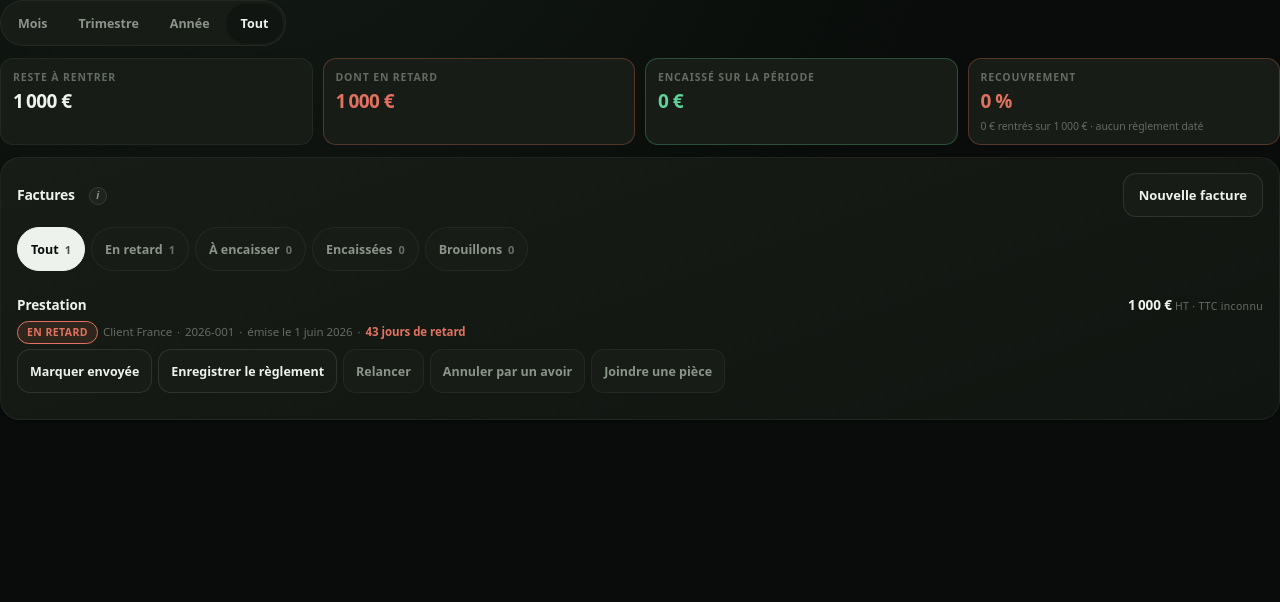
Scenario: relancer une facture en retard › chiffre l’indemnité forfaitaire, due de plein droit
Click the button "Relancer" at [383, 371], box [343, 349, 424, 393]
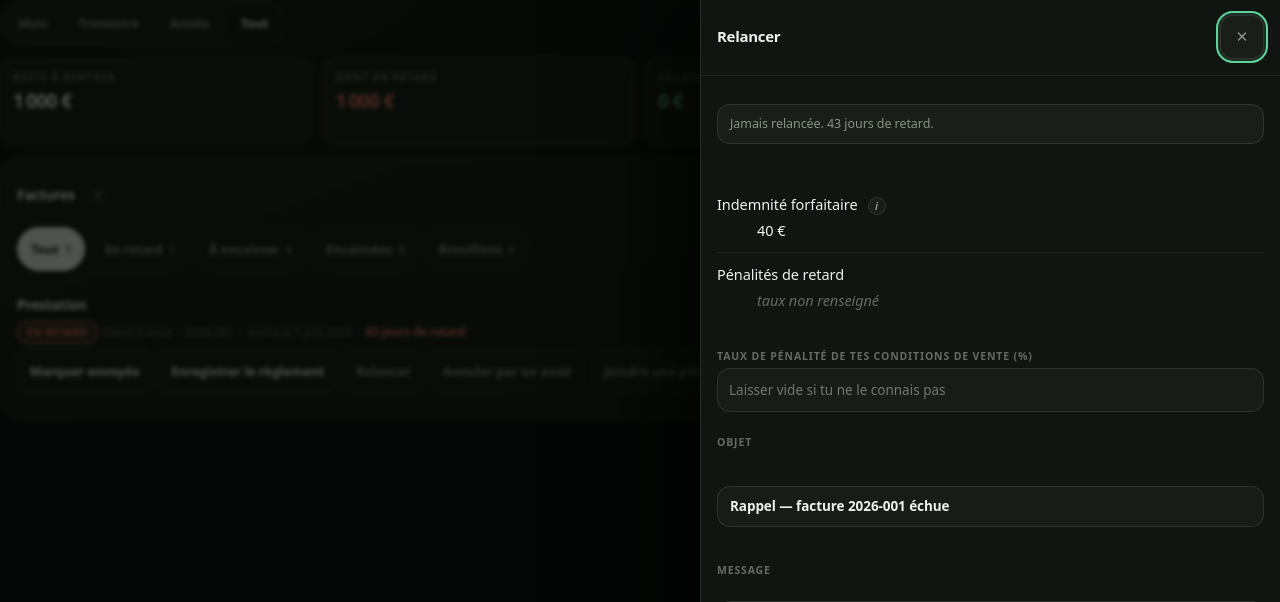
Check: the text "Indemnité forfaitaire" is shown, box [717, 194, 858, 214]
Check: the text "40 €" is shown, box [757, 220, 785, 240]
